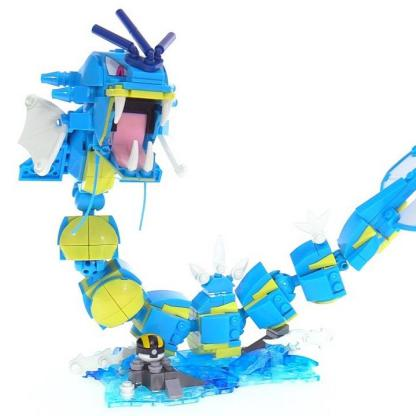Gyarados: (23, 16, 190, 196)
